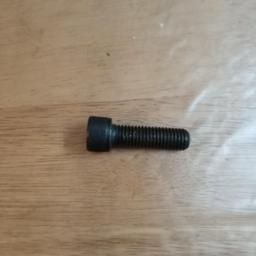screwtype1black: (82, 113, 192, 161)
